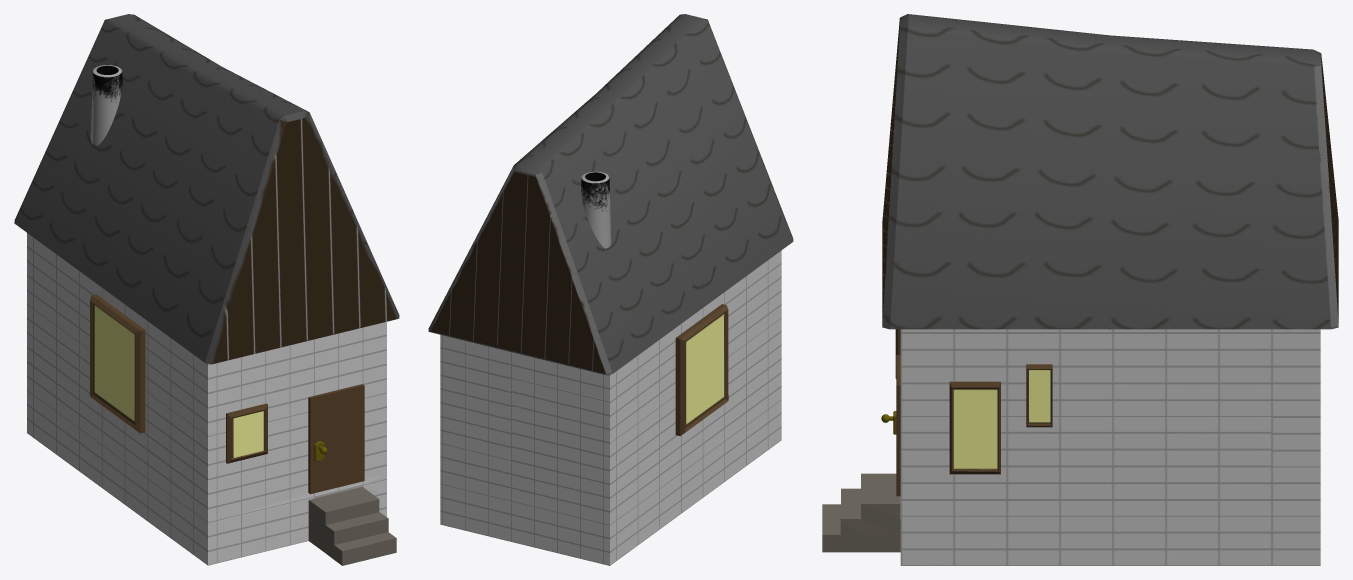
The model's file is House1_Export.FBX.
3 renders of one model, left to right at view 1: azimuth 30°, elevation 25°; view 2: azimuth 150°, elevation 25°; view 3: azimuth 270°, elevation 25°, orthographic. The views are drawn at different scales.
Parts seen in each view (by area): view 1: roof; view 2: roof; view 3: roof.
Part boxes in pixels (x1=…): roof: x1=14, y1=14, x2=399, y2=565; roof: x1=428, y1=14, x2=793, y2=565; roof: x1=822, y1=14, x2=1338, y2=565.
Bounding box in the file's own units: 55.92 × 117 × 111.
